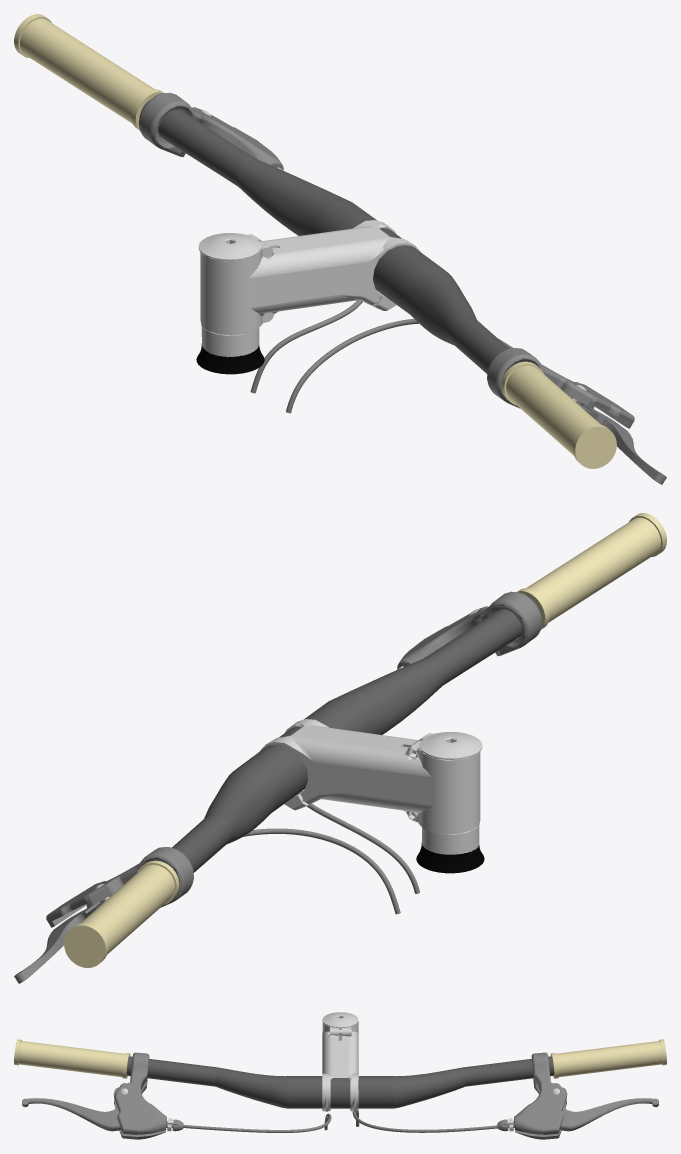
File: Mango_Handle_Riser.glb
3 renders of one model, top to bottom at view 1: azimuth 30°, elevation 25°; view 2: azimuth 150°, elevation 25°; view 3: azimuth 270°, elevation 25°, orthographic. The views are drawn at different scales.
Parts seen in each view (by area): view 1: no_transformations (×6); view 2: no_transformations (×6); view 3: no_transformations (×6).
Boxes of the visible parts, x1=… form: no_transformations (×6): x1=14, y1=14, x2=666, y2=484; no_transformations (×6): x1=14, y1=513, x2=666, y2=983; no_transformations (×6): x1=14, y1=1012, x2=666, y2=1139.
Size of the model in its own units: 158 by 107 by 632.
